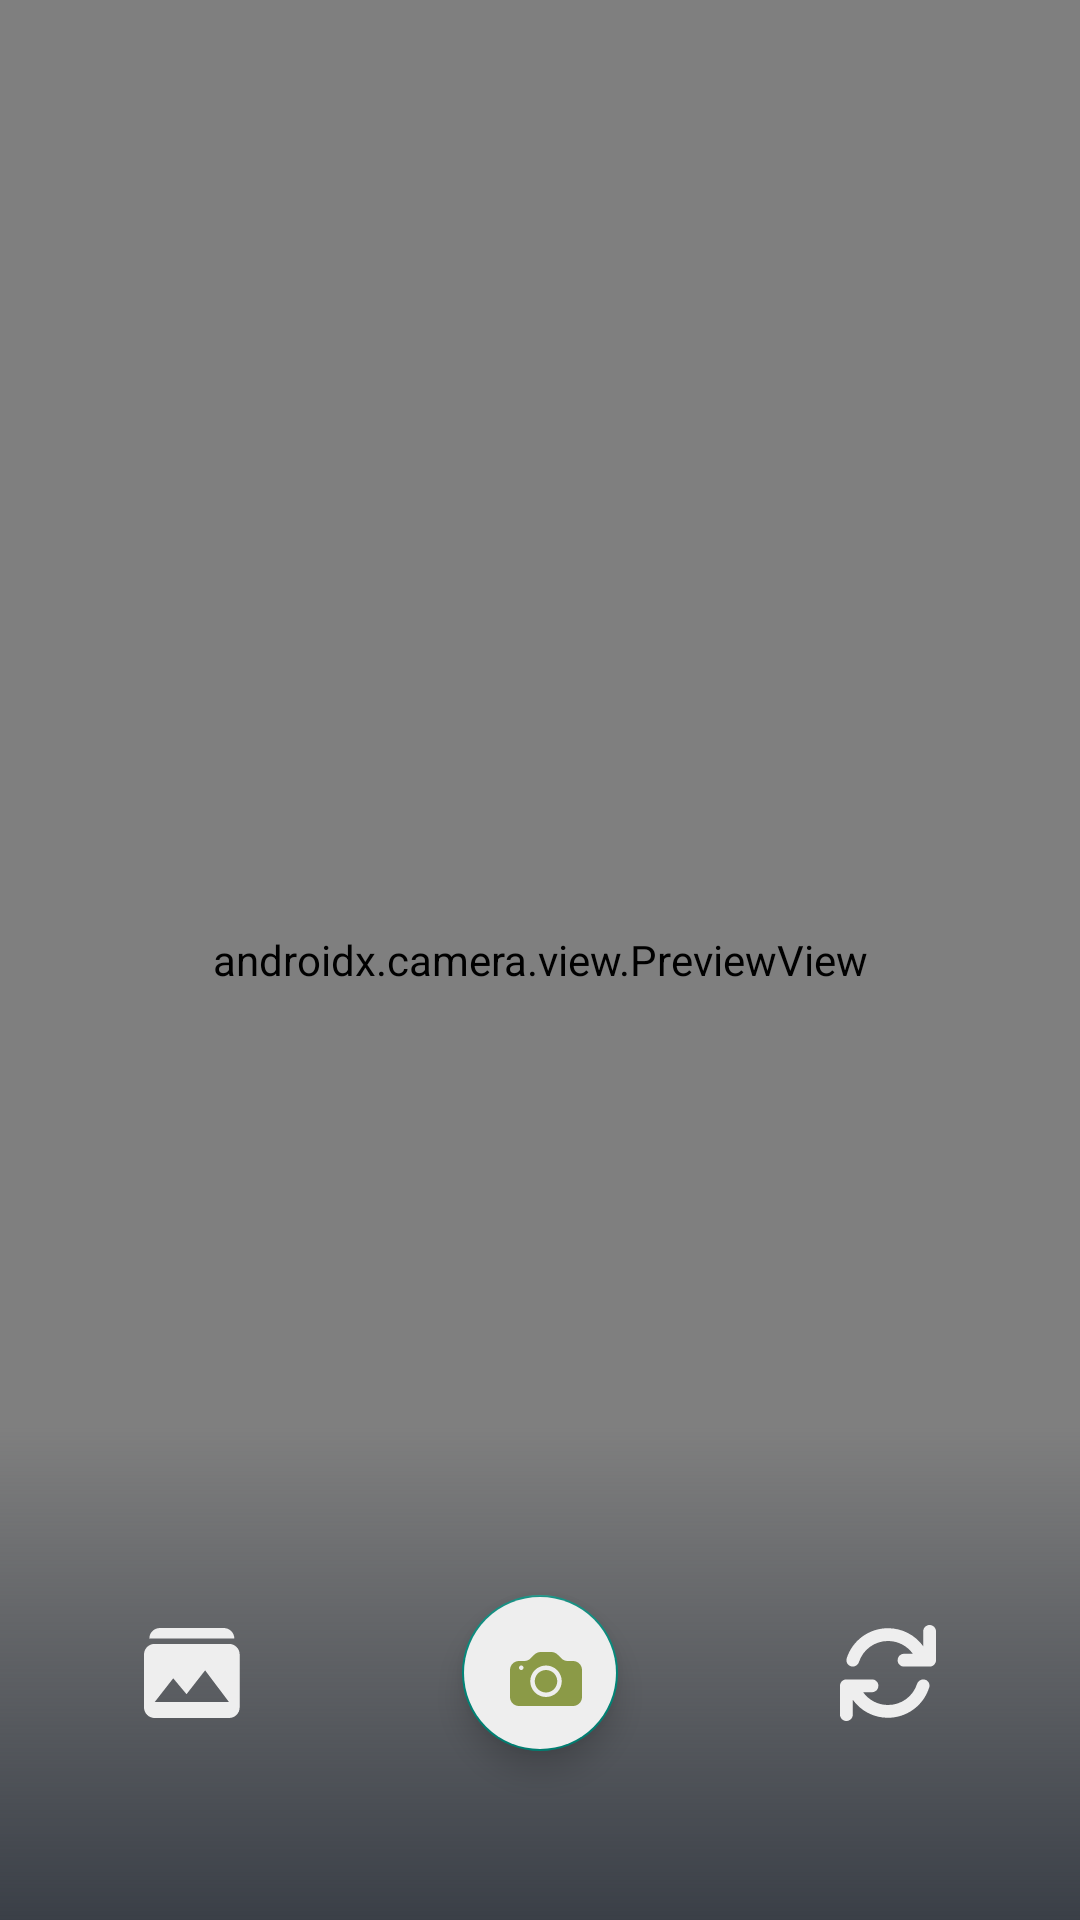

Named icons in this screenshot (1080 x 1920) and their bounding boxes, [left=x1, top=y1, right=x2, bottom=y2]:
gallery icon: [left=144, top=1628, right=240, bottom=1718]
rotate icon: [left=840, top=1625, right=936, bottom=1721]
